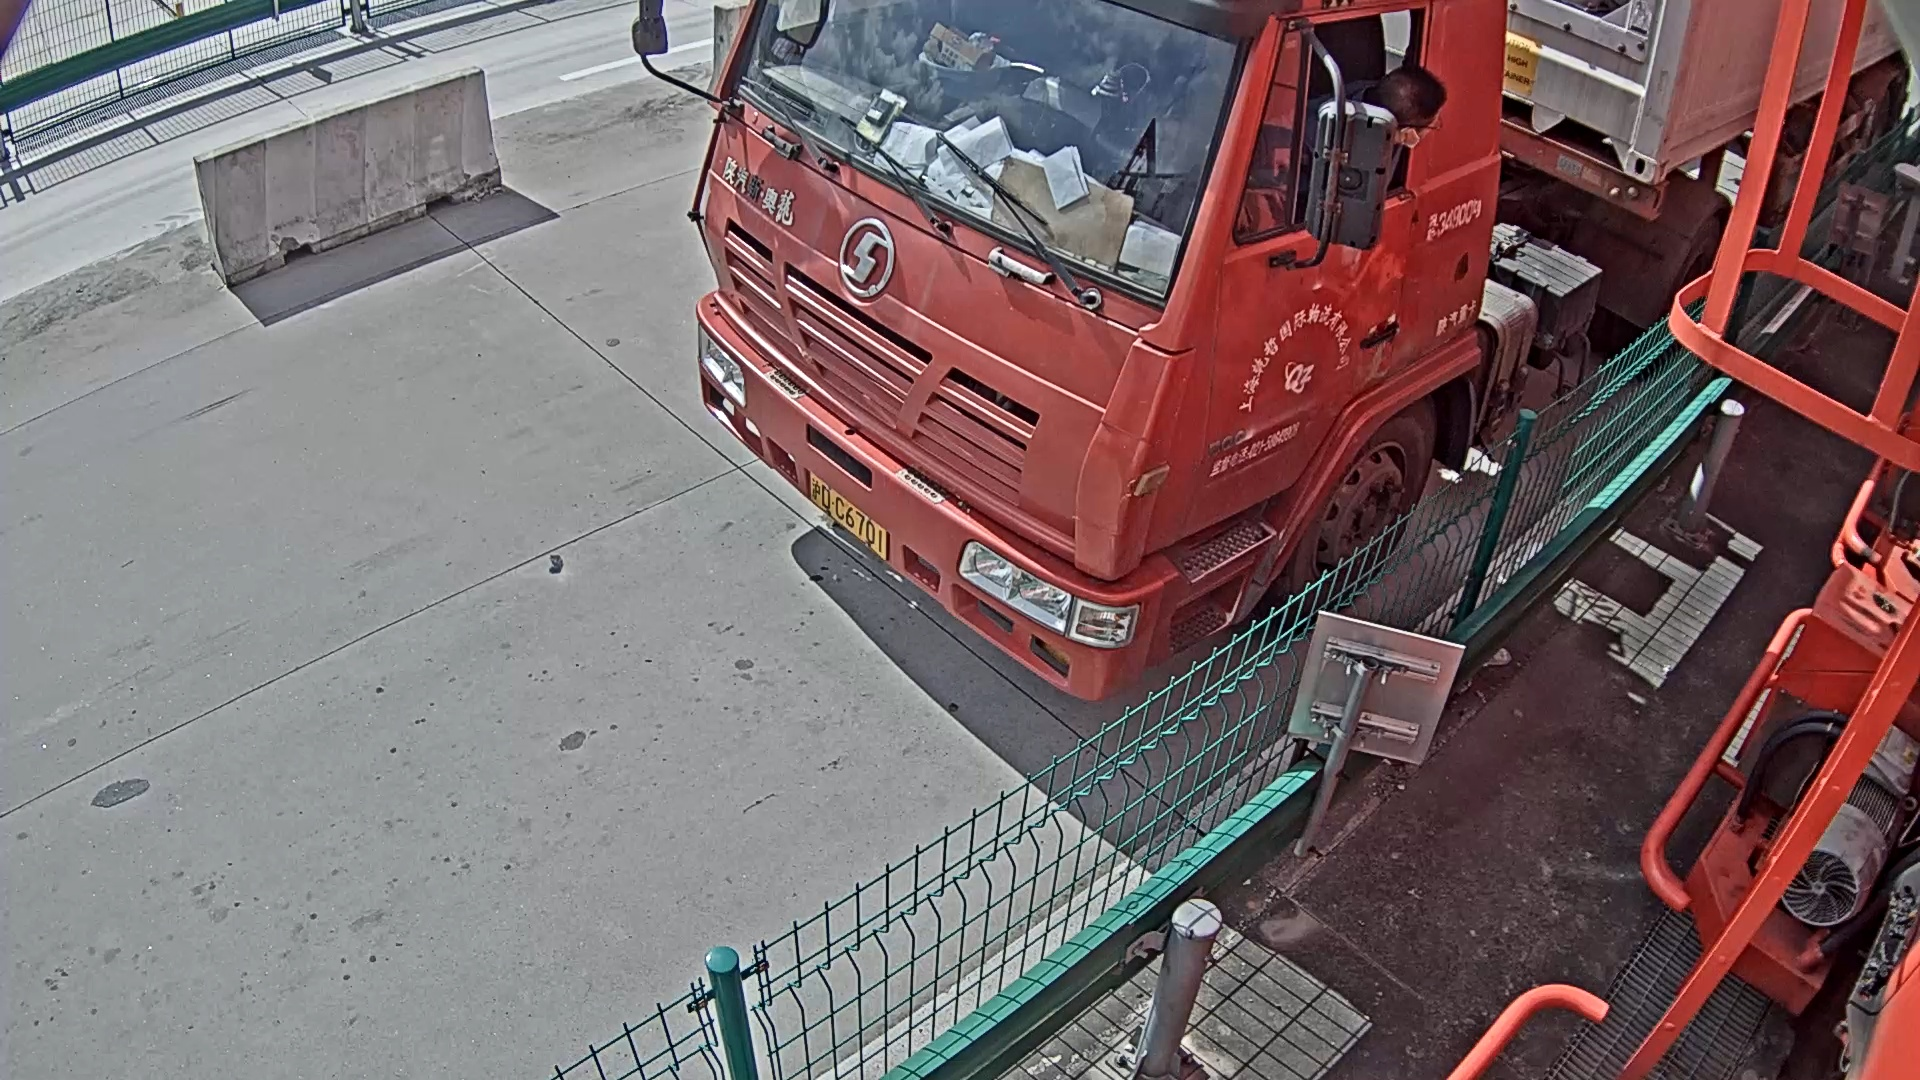head: (682, 1, 1509, 697)
plate: (807, 472, 890, 565)
